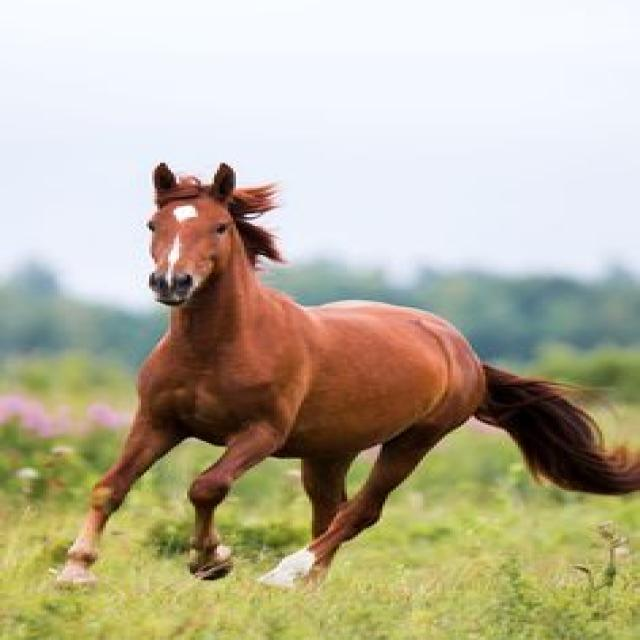Herbivorous: (57, 165, 640, 589)
